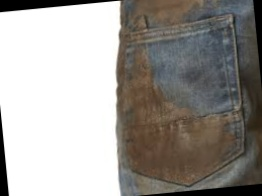earth: (131, 113, 230, 175), (130, 63, 158, 123), (137, 0, 193, 19), (157, 99, 175, 120)
